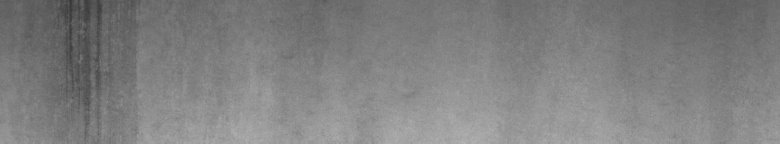ka: (53, 4, 136, 136)
